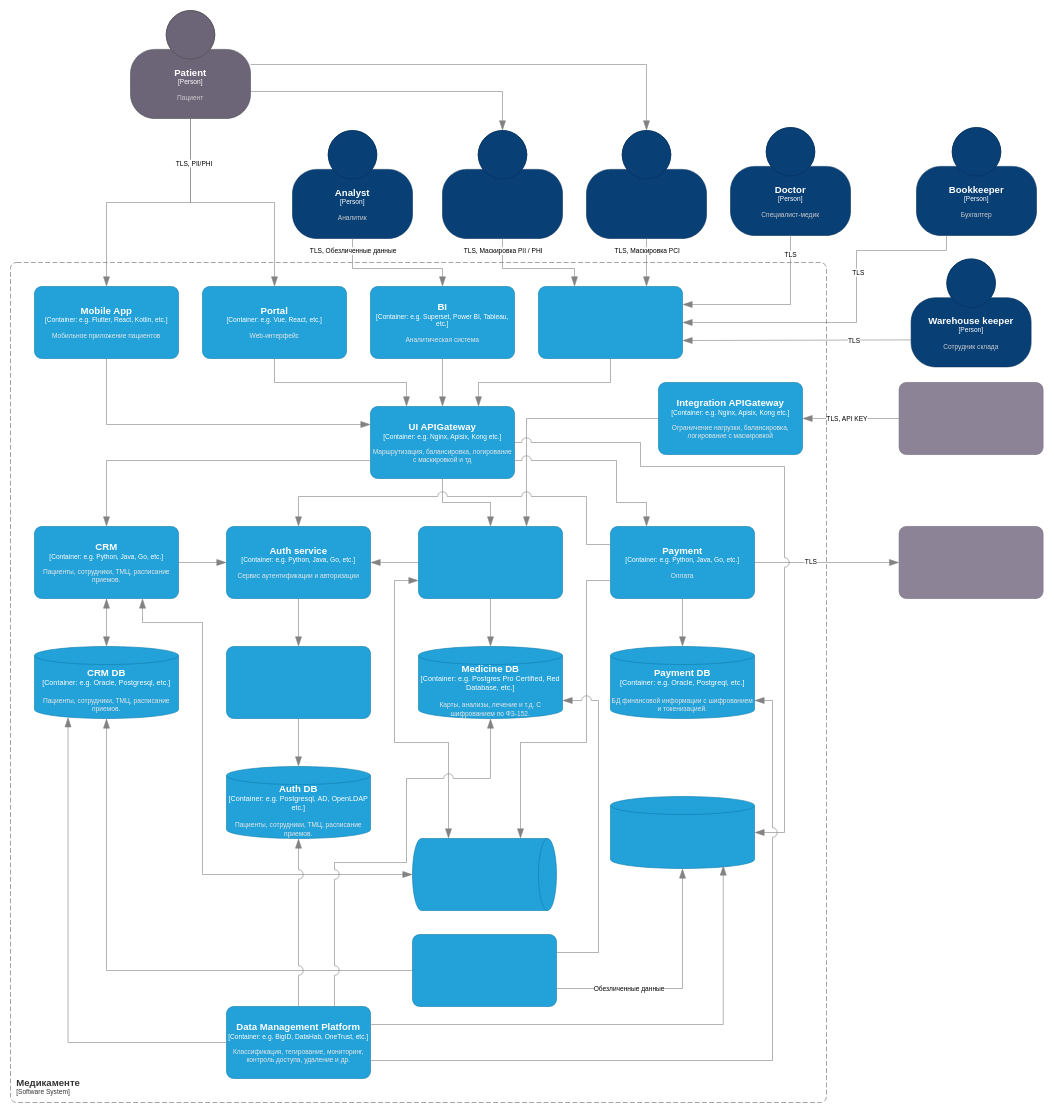
Image size: 1054x1113. Some labels were removed from this diagram. The shapes that lost their labels are listed below. From the top down, each one's centre as x and y in pixels, then its label:
At pixel 502 184: "Administrator [Person] Сотрудник ресепшена".
At pixel 646 184: "Cassier [Person] Кассир".
At pixel 610 322: "Employee UI [Container: e.g. Vue, React, etc.] Интерфейс для разных сотрудников".
At pixel 970 418: "Laboratory [Software System] Медицинская лаборатория".
At pixel 490 562: "Medicine [Container: e.g. Python, Java, Go, etc.] Карты, анализы, лечение и т.д.".
At pixel 970 562: "Payment gateway [Software System] External payment system".
At pixel 298 682: "IAM [Container: e.g. Keycloak, Okta, Casdoor, etc.] Сервис аутентификации".
At pixel 682 832: "DataLake [Container: ClickHouse] Хранилище аналитических данных компании.".
At pixel 484 874: "MessageBroker [Container: e.g. Kafka, RabbitMQ, etc.] Брокер сообщений".
At pixel 484 970: "ETL [Container: Airflow] Сбора данных с обезличиванием.".
